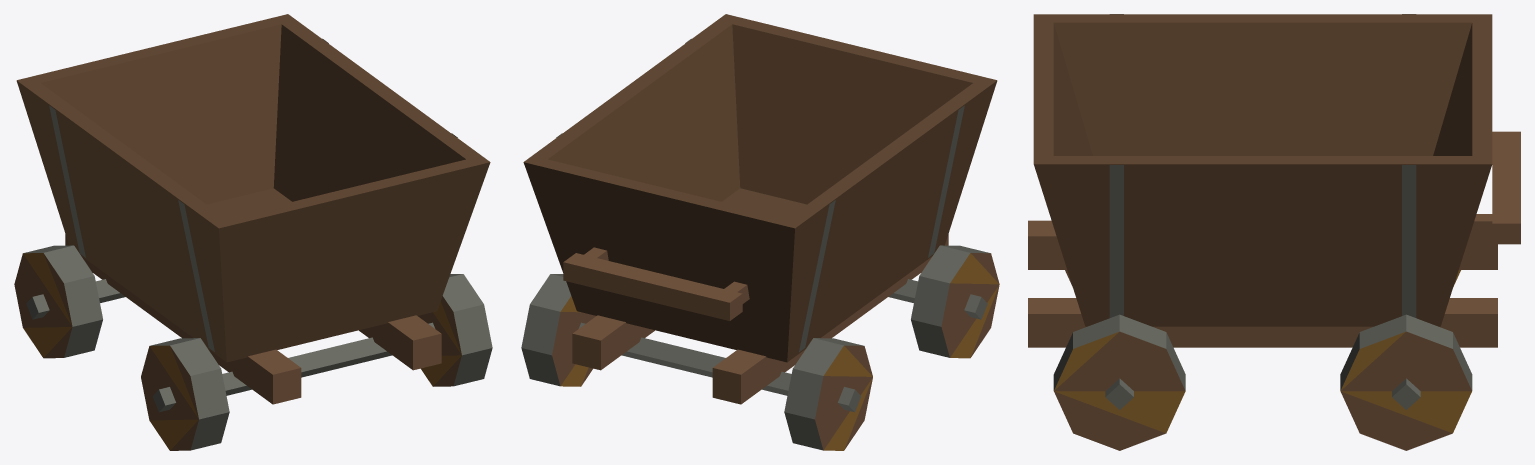
Rendered from minecart.glb.
The picture shows the model from 3 angles, left to right: view 1: azimuth 30°, elevation 25°; view 2: azimuth 150°, elevation 25°; view 3: azimuth 270°, elevation 25°; orthographic projection. The views are drawn at different scales.
Parts seen in each view (by area): view 1: cart_body, wheel_l_rear, wheel_l_front, wheel_r_front; view 2: cart_body, wheel_l_front, wheel_l_rear, wheel_r_rear; view 3: cart_body, wheel_r_rear, wheel_r_front.
Boxes of the visible parts, left/top/right/bottom form: cart_body: left=16, top=14, right=490, bottom=412; wheel_l_rear: left=14, top=245, right=102, bottom=358; wheel_l_front: left=141, top=338, right=229, bottom=450; wheel_r_front: left=418, top=274, right=492, bottom=386; cart_body: left=523, top=14, right=997, bottom=412; wheel_l_front: left=911, top=245, right=999, bottom=358; wheel_l_rear: left=784, top=338, right=872, bottom=450; wheel_r_rear: left=521, top=274, right=595, bottom=386; cart_body: left=1028, top=14, right=1520, bottom=409; wheel_r_rear: left=1340, top=314, right=1472, bottom=450; wheel_r_front: left=1053, top=314, right=1185, bottom=450.
Size of the model in its own units: 0.48 by 0.36 by 0.5733.
